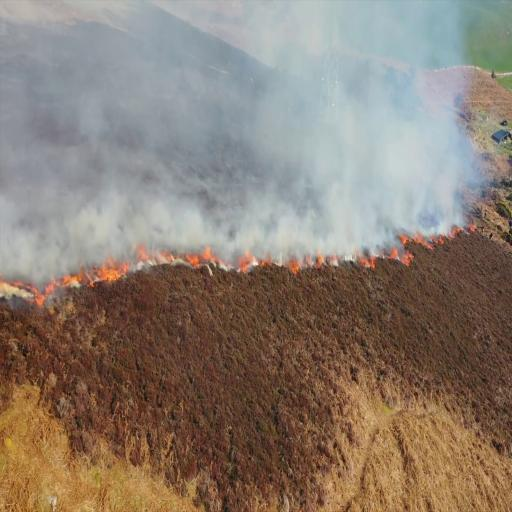fire: (37, 268, 82, 310), (203, 242, 258, 274), (94, 260, 132, 285), (186, 250, 202, 274)
smoke: (0, 1, 486, 225), (252, 53, 483, 219), (73, 202, 138, 255)
